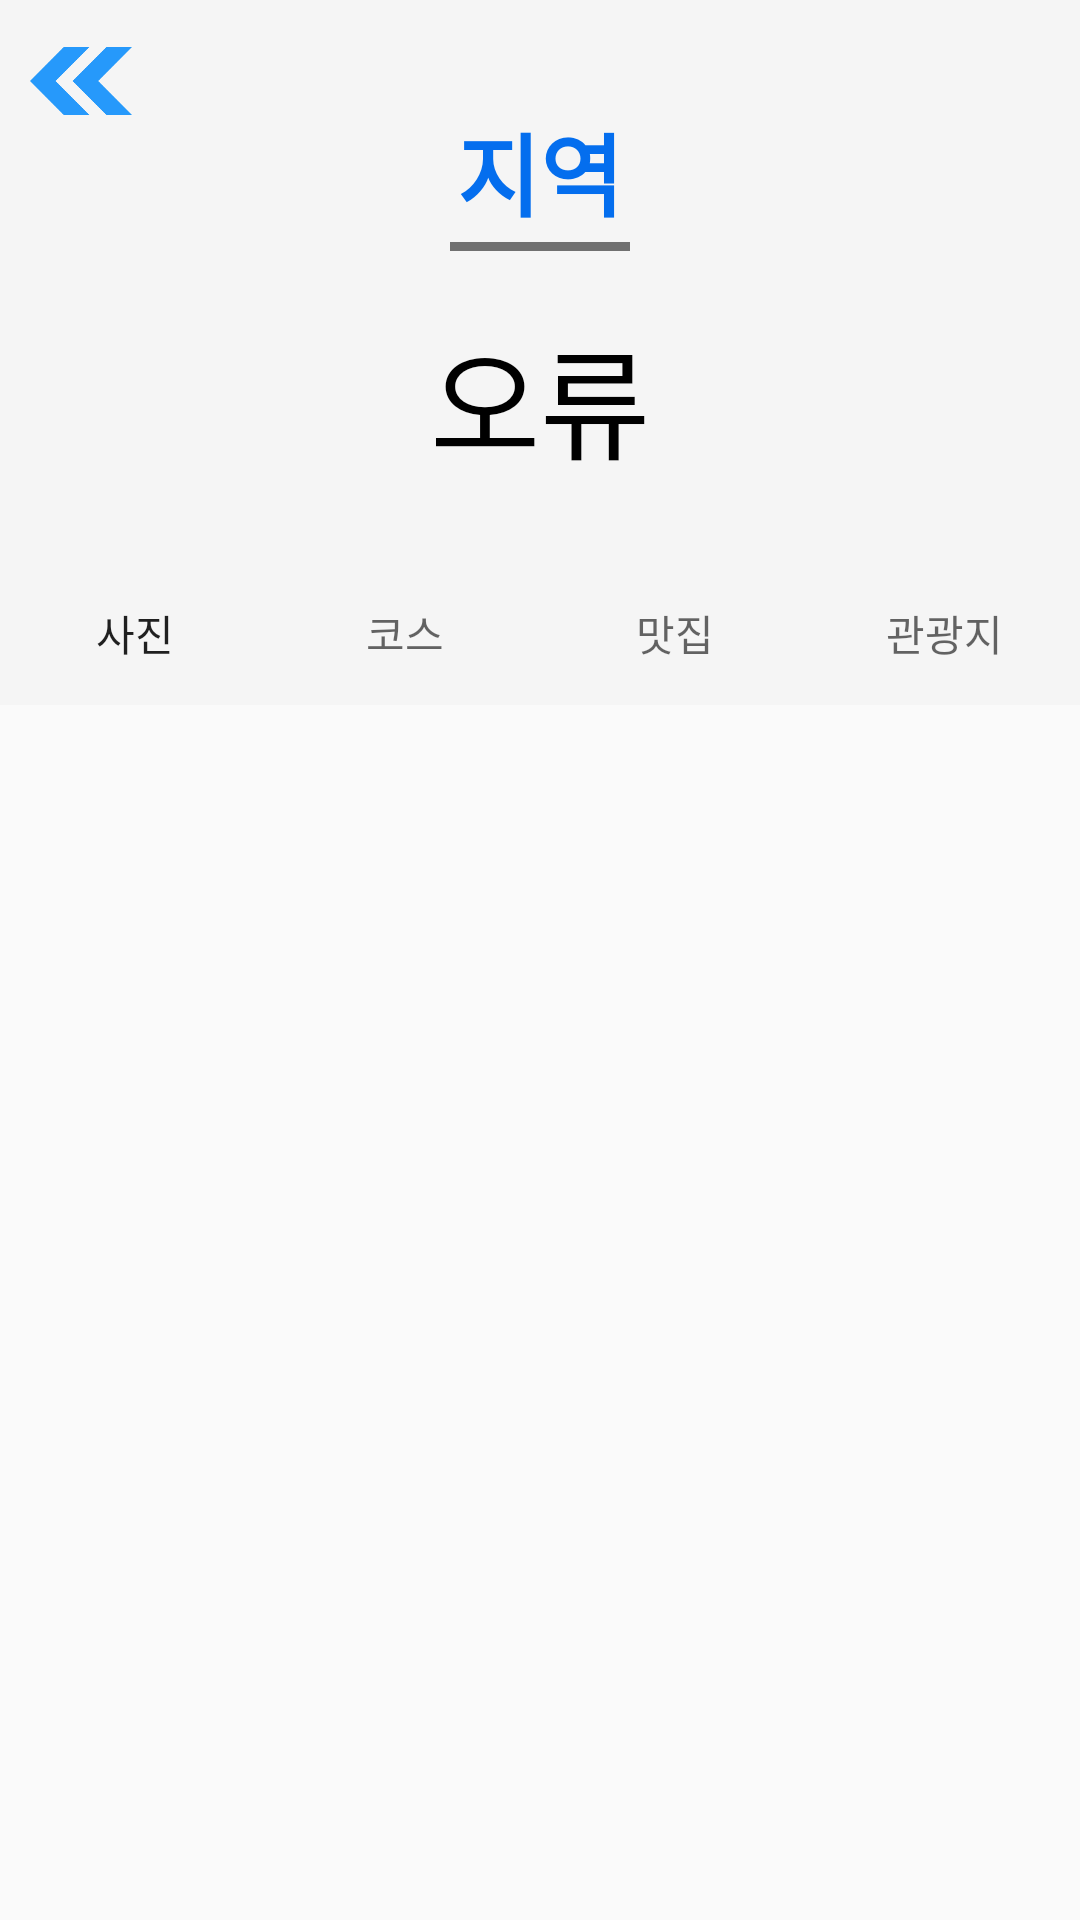

Screen size 1080x1920. Icon name, then its center in pixels as (x=x, y=y):
double arrow: (x=81, y=81)
